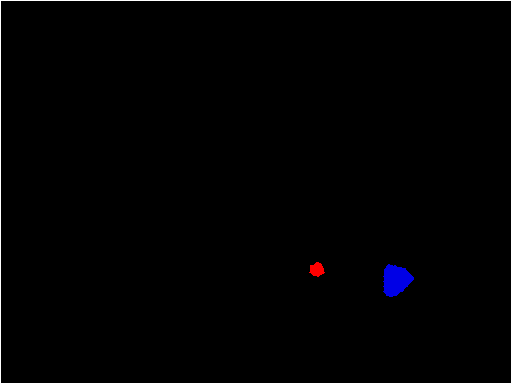chipped: (384, 269, 408, 298)
detached: (309, 262, 326, 275)
